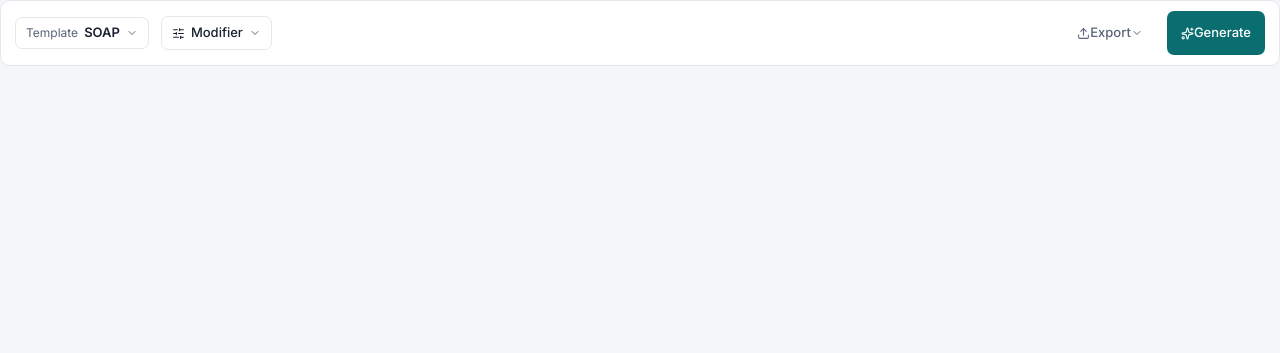
it: NoteToolbar › Export menu opens with copy/print/download actions when a note exists
What coordinates should you click on to do the following:
click the button "Export"
I would click on:
 (1110, 33)
Its box is [1065,11,1155,55].
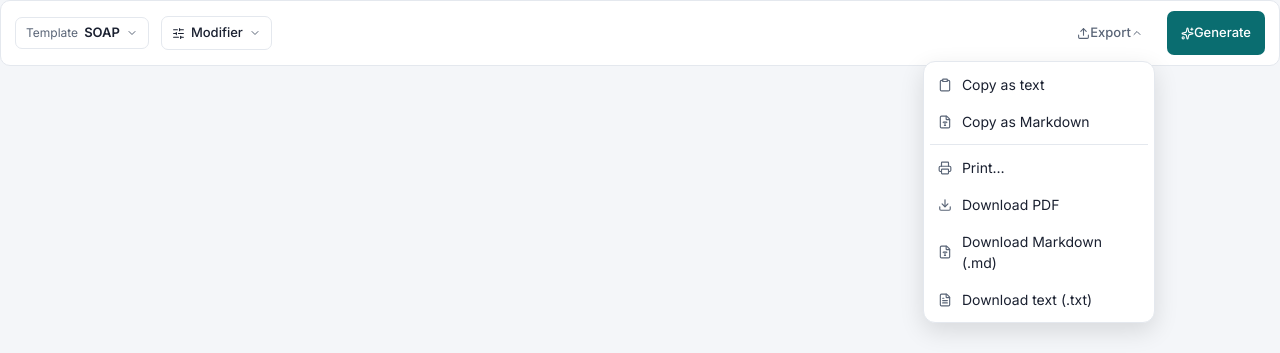
Expected: the menu item "Copy as text" is shown, [928,66,1150,103]
Expected: the menu item "Copy as Markdown" is shown, [928,103,1150,140]
Expected: the menu item "Print…" is shown, [928,149,1150,186]
